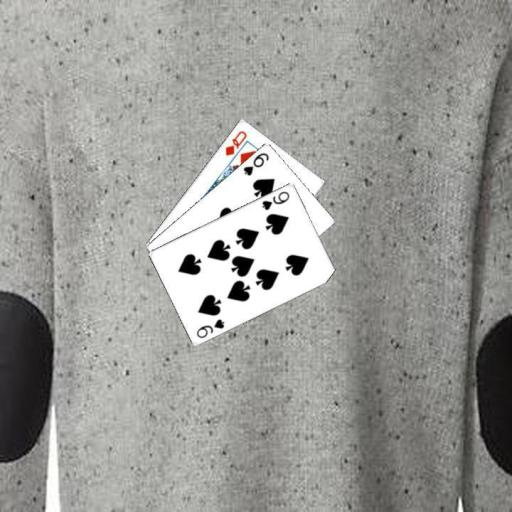card-corner: (240, 149, 270, 177), (222, 127, 248, 157), (259, 188, 291, 211), (194, 316, 226, 339)
